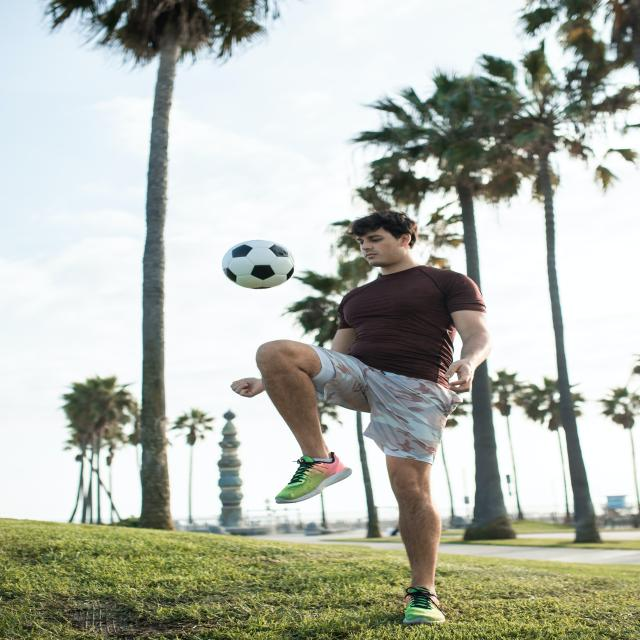ball: (220, 239, 298, 290)
